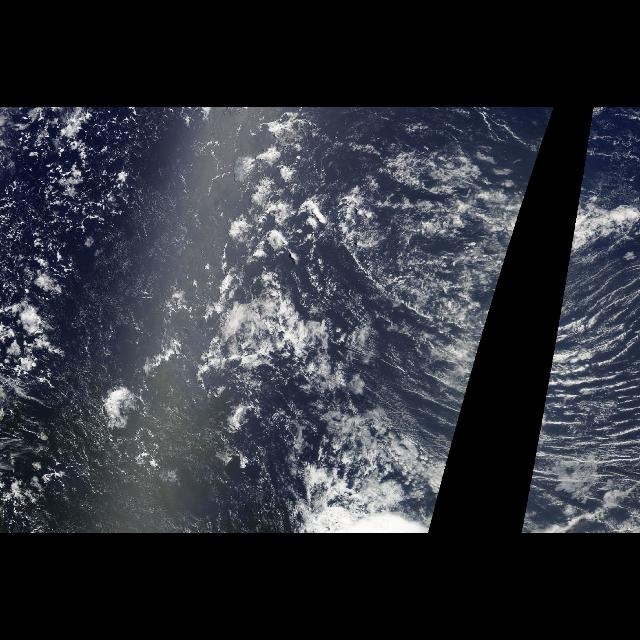Flower: (220, 108, 324, 284)
Gravel: (0, 108, 172, 316)
Sugar: (2, 111, 182, 332), (380, 254, 508, 472), (30, 416, 274, 528), (532, 254, 640, 472)
